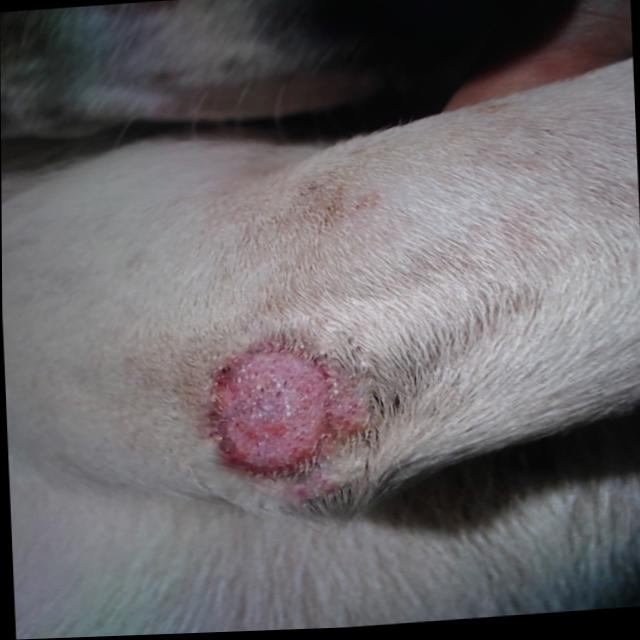ringworm: (177, 326, 349, 493)
